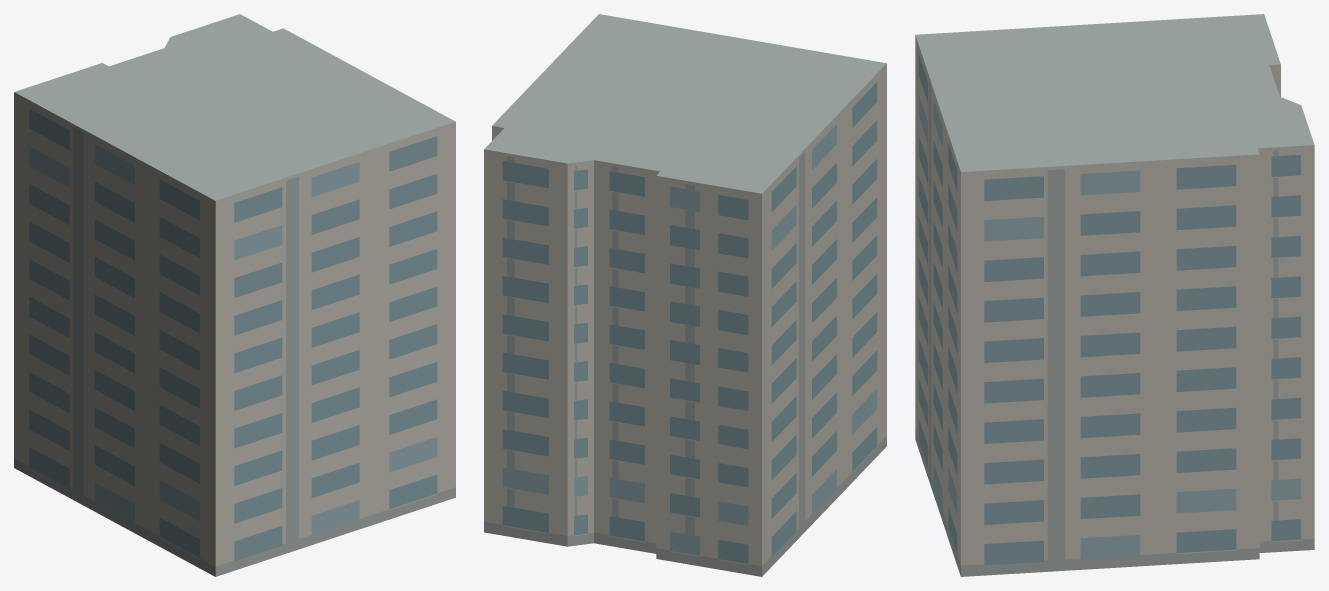
The model's file is residential-912f5820-fa69-4c40-b730-d8bf5beed683.glb.
The picture shows the model from 3 angles, left to right: view 1: azimuth 30°, elevation 25°; view 2: azimuth 150°, elevation 25°; view 3: azimuth 270°, elevation 25°; orthographic projection. The views are drawn at different scales.
Parts seen in each view (by area): view 1: residential-912f5820-fa69-4c40-b730-d8bf5beed683.tmp; view 2: residential-912f5820-fa69-4c40-b730-d8bf5beed683.tmp; view 3: residential-912f5820-fa69-4c40-b730-d8bf5beed683.tmp.
Boxes of the visible parts, box(x1,y1,x2,y2) form: residential-912f5820-fa69-4c40-b730-d8bf5beed683.tmp: box(14, 14, 455, 576); residential-912f5820-fa69-4c40-b730-d8bf5beed683.tmp: box(484, 14, 886, 576); residential-912f5820-fa69-4c40-b730-d8bf5beed683.tmp: box(915, 14, 1314, 576).
Size of the model in its own units: 25.13 by 30 by 26.82.
